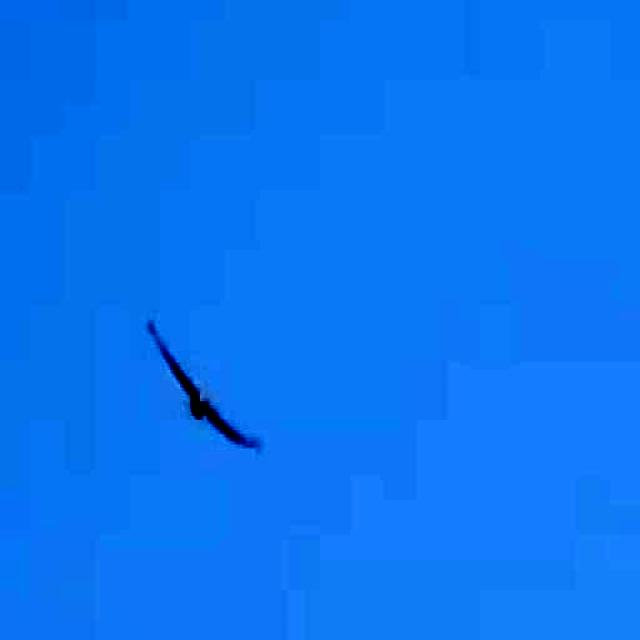airplane: (135, 282, 271, 479)
